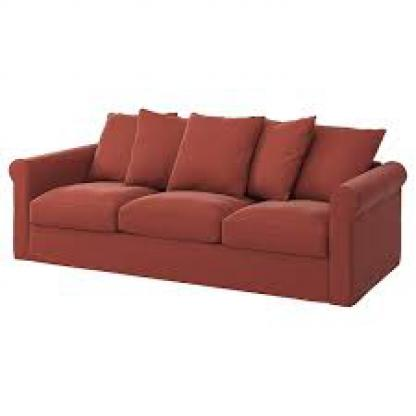sofa: (11, 106, 405, 302)
